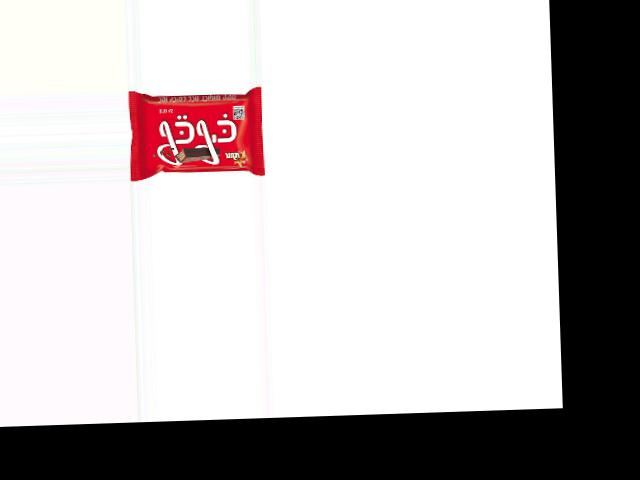chocolate: (128, 85, 264, 180)
